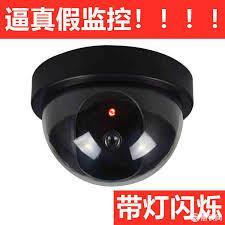maru: (20, 48, 202, 187)
